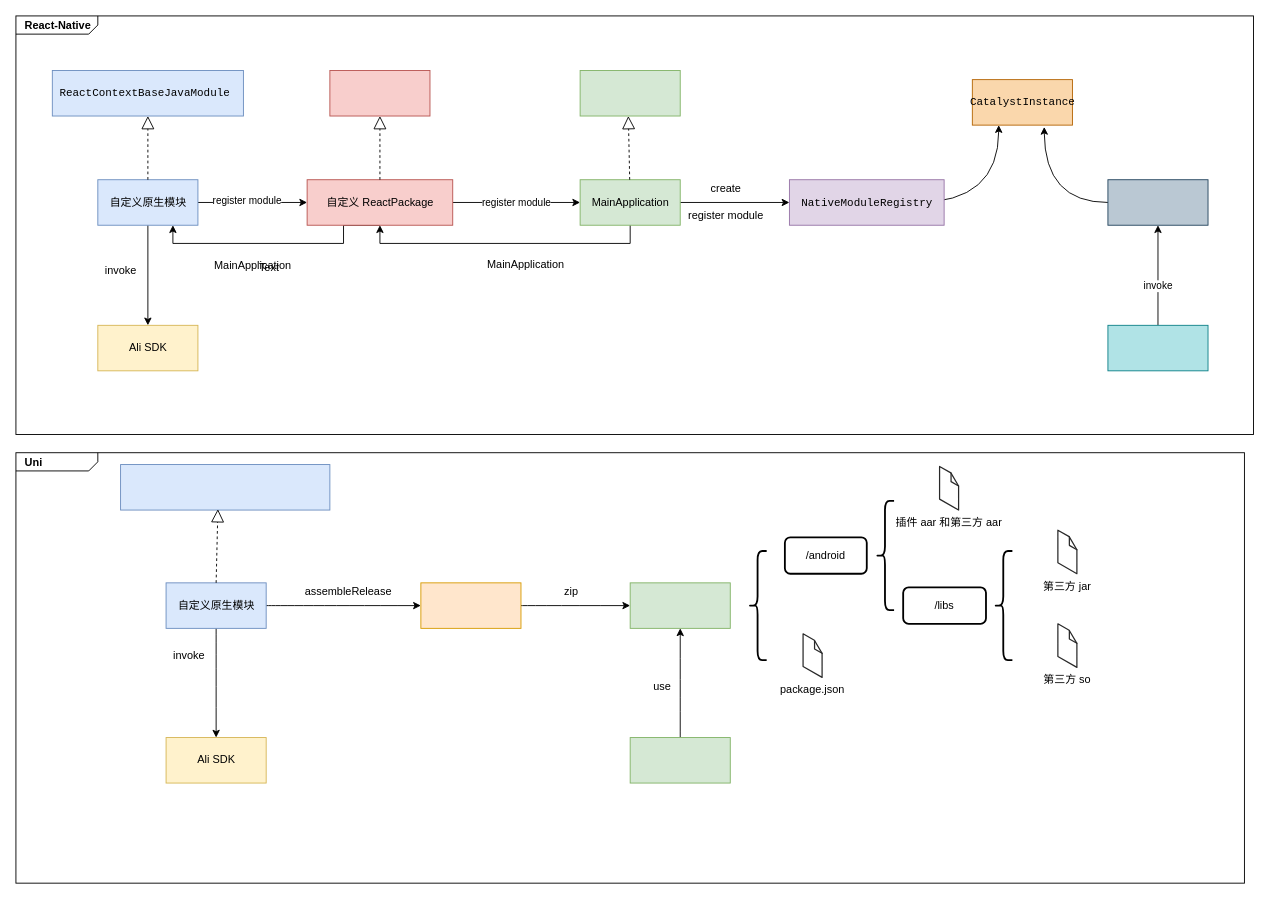
Image size: 1269x899. Some labels were removed from this diagram. The shapes that lost their labels are listed below. From the top down, each one's centre as x and y in pixels, then its label:
At point (379, 93): "ReactPackage".
At point (629, 93): "ReactApplication".
At point (1157, 202): "ReactBridge".
At point (1157, 347): "React App".
At point (225, 487): "WXSDKEngine. DestroyableModule".
At point (470, 605): "插件名.aar".
At point (679, 605): "插件名.zip".
At point (679, 760): "Uni App".
